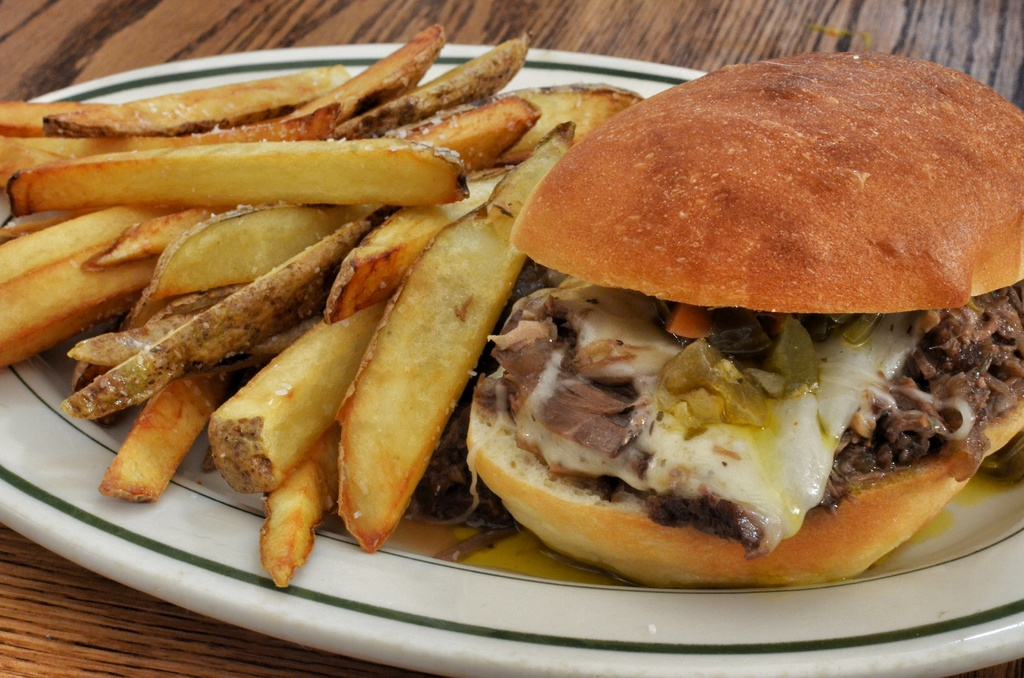French fries: (24, 30, 692, 601)
